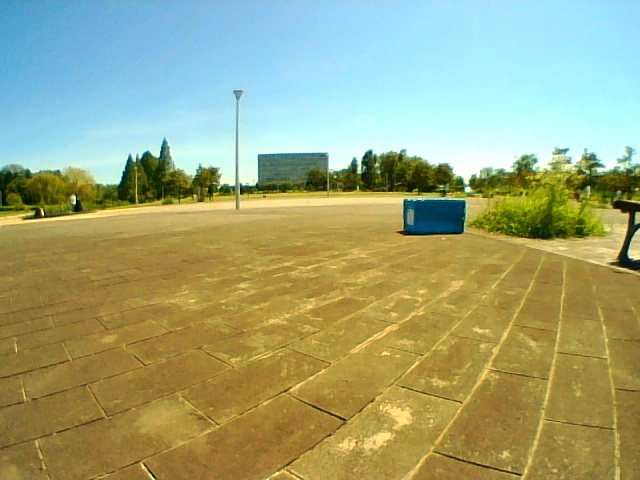blue_box: (404, 200, 464, 235)
tag: (407, 210, 413, 225)
